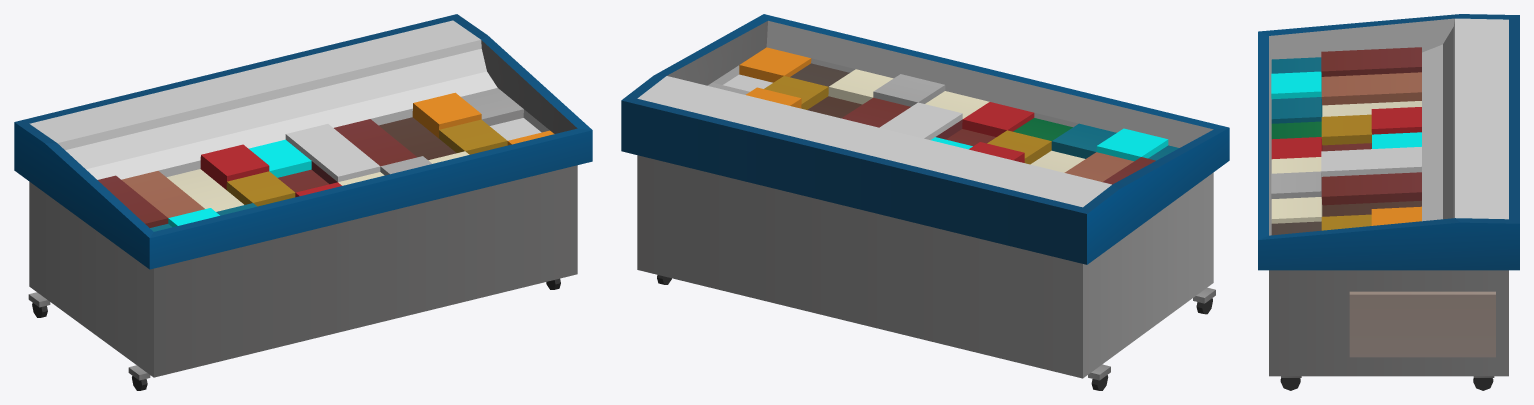
The model's file is B03_Congel_XL02.fbx.
3 renders of one model, left to right at view 1: azimuth 30°, elevation 25°; view 2: azimuth 150°, elevation 25°; view 3: azimuth 270°, elevation 25°, orthographic. The views are drawn at different scales.
Parts seen in each view (by area): view 1: B03_Congel_XL02; view 2: B03_Congel_XL02; view 3: B03_Congel_XL02.
Boxes of the visible parts, x1,y1,x2,y2 form: B03_Congel_XL02: (14, 14, 592, 390); B03_Congel_XL02: (621, 14, 1229, 390); B03_Congel_XL02: (1258, 14, 1519, 390).
Bounding box in the file's own units: 417 × 166 × 221.
